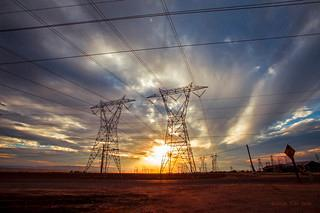power_tower: (149, 83, 212, 178), (81, 94, 143, 176)
